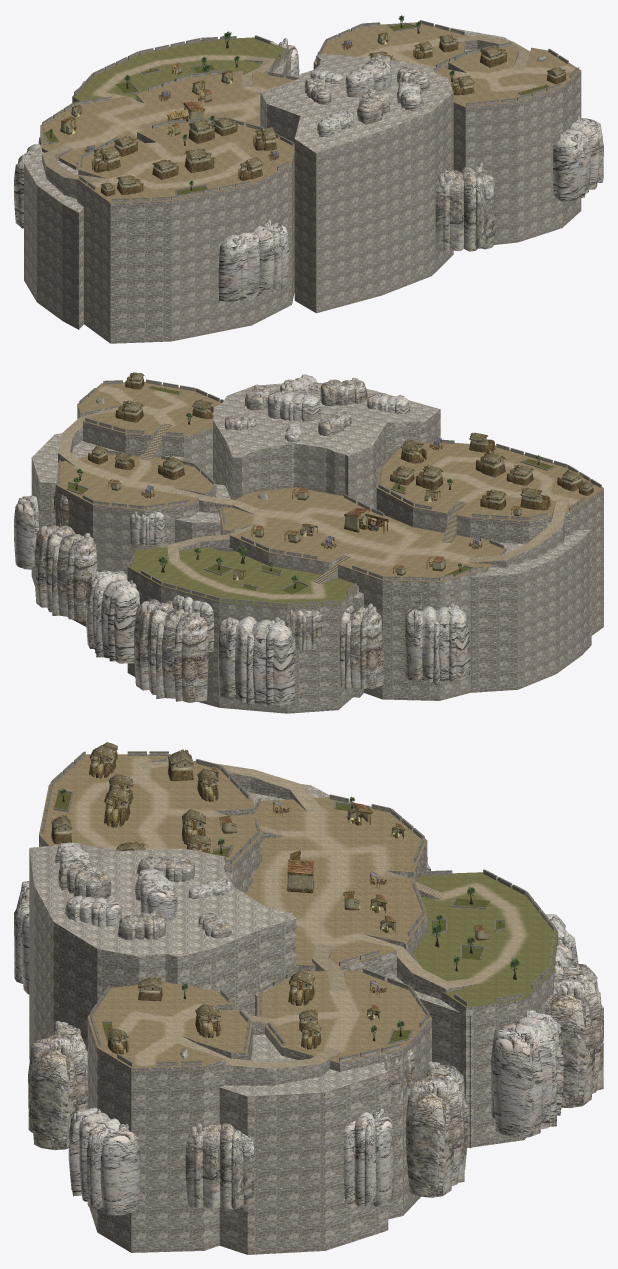
File: gardens_art_01.glb
3 views of the same model, one above another, from view 1: azimuth 30°, elevation 25°; view 2: azimuth 150°, elevation 25°; view 3: azimuth 270°, elevation 25° (orthographic). The views are drawn at different scales.
Parts seen in each view (by area): view 1: continuous_bedrock_sides, high_rock_rib_sides, terrace_upper_sides, terrace_work_top, terrace_upper_top, terrace_exit_sides, high_rock_rib_top, terrace_garden_top, gorge_stratum_10_0, gorge_stratum_11_0, terrace_exit_top, gorge_stratum_09_0 (+23 smaller); view 2: continuous_bedrock_sides, terrace_work_top, high_rock_rib_sides, terrace_upper_top, terrace_garden_top, gorge_stratum_04_0, high_rock_rib_top, gorge_stratum_03_0, terrace_work_sides, terrace_upper_sides, terrace_east_top, shoulder_west_sides (+37 smaller); view 3: continuous_bedrock_sides, terrace_work_top, high_rock_rib_sides, terrace_garden_top, high_rock_rib_top, terrace_upper_top, terrace_exit_sides, terrace_east_top, terrace_exit_top, shoulder_east_base_sides, gorge_stratum_05_0, gorge_stratum_06_0 (+33 smaller).
Part boxes in pixels (x1,y1,x2,y2): continuous_bedrock_sides: (24, 154, 581, 343); high_rock_rib_sides: (260, 56, 453, 236); terrace_upper_sides: (77, 132, 294, 266); terrace_work_top: (40, 71, 293, 166); terrace_upper_top: (77, 120, 294, 203); terrace_exit_sides: (448, 49, 581, 169); high_rock_rib_top: (260, 53, 453, 153); terrace_garden_top: (72, 37, 290, 101); gorge_stratum_10_0: (435, 162, 495, 252); gorge_stratum_11_0: (218, 219, 288, 301); terrace_exit_top: (434, 44, 580, 107); gorge_stratum_09_0: (553, 116, 603, 201); continuous_bedrock_sides: (31, 523, 603, 713); terrace_work_top: (219, 487, 506, 581); high_rock_rib_sides: (213, 409, 440, 509); terrace_upper_top: (376, 442, 603, 521); terrace_garden_top: (128, 547, 358, 607); gorge_stratum_04_0: (134, 599, 208, 702); high_rock_rib_top: (213, 382, 440, 457); gorge_stratum_03_0: (218, 616, 295, 705); terrace_work_sides: (219, 509, 506, 623); terrace_upper_sides: (376, 488, 603, 559); terrace_east_top: (56, 454, 216, 510); shoulder_west_sides: (471, 530, 591, 616); continuous_bedrock_sides: (29, 958, 526, 1254); terrace_work_top: (245, 797, 427, 967); high_rock_rib_sides: (29, 849, 296, 1050); terrace_garden_top: (411, 872, 558, 1007); high_rock_rib_top: (29, 843, 295, 956); terrace_upper_top: (39, 754, 262, 866); terrace_exit_sides: (87, 1004, 252, 1151); terrace_east_top: (257, 971, 431, 1062); terrace_exit_top: (87, 982, 252, 1068); shoulder_east_base_sides: (219, 1072, 388, 1153); gorge_stratum_05_0: (490, 1009, 563, 1137); gorge_stratum_06_0: (406, 1061, 468, 1197).
Bounding box in the file's own units: 161 × 55.6 × 122.
22 materials, 22 textured.
